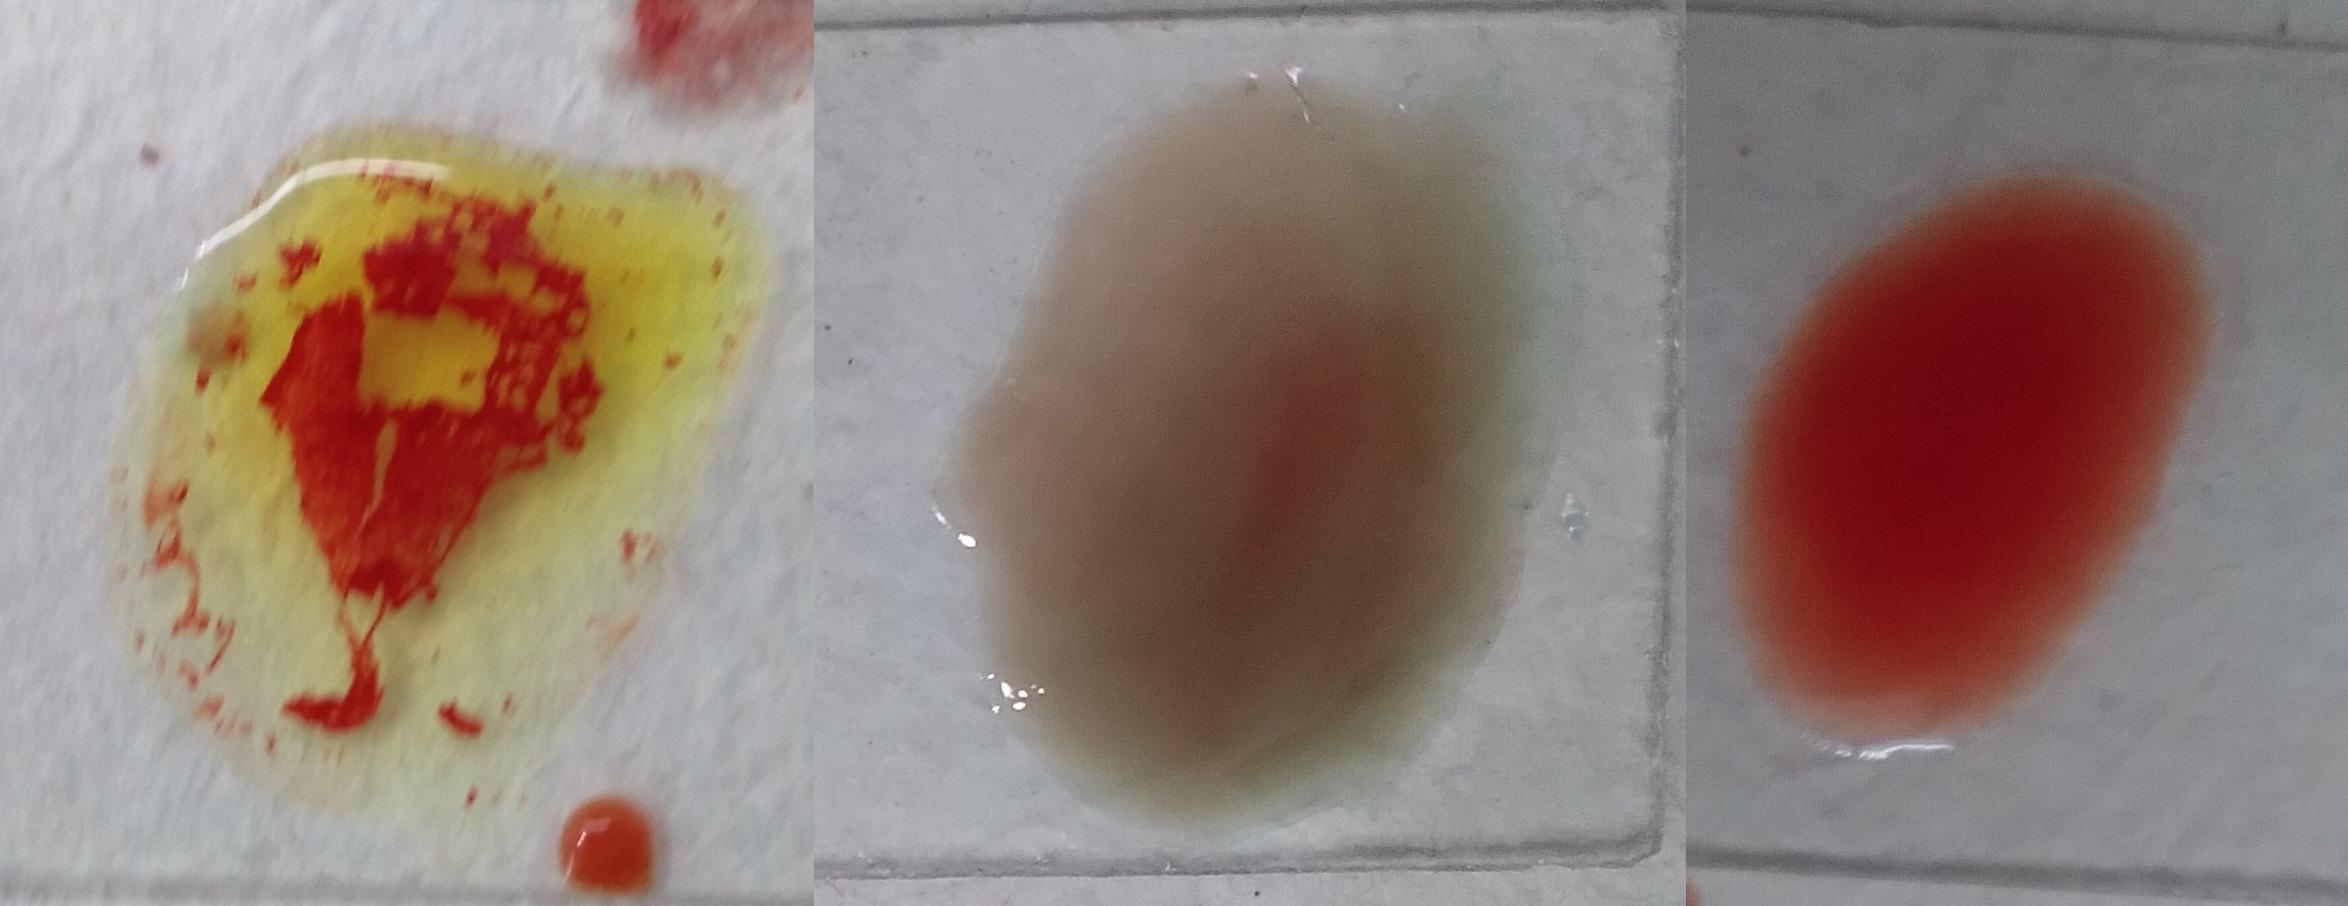B: (141, 148, 702, 803)
